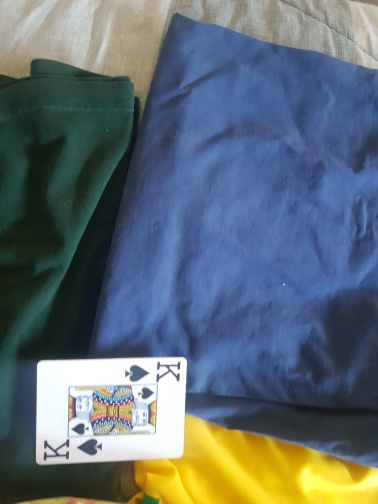king: (36, 358, 185, 466)
